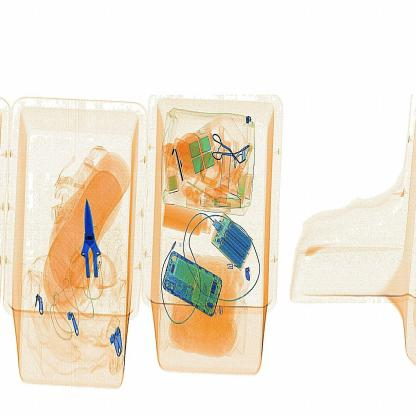gun: (72, 191, 128, 302)
